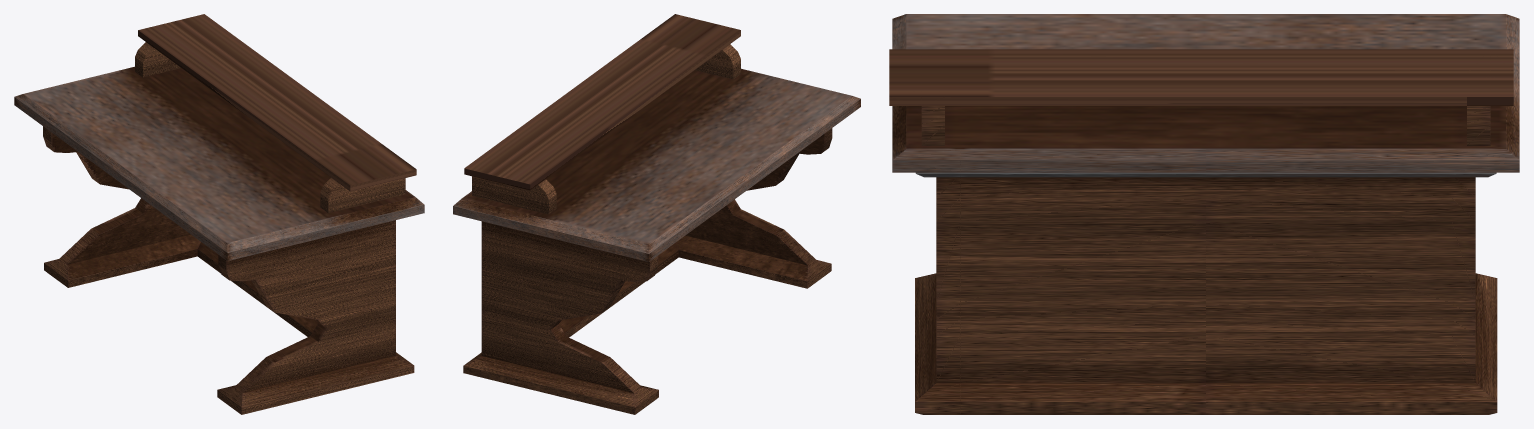
File: Desk.glb
3 views of the same model, side by side, from view 1: azimuth 30°, elevation 25°; view 2: azimuth 150°, elevation 25°; view 3: azimuth 270°, elevation 25° (orthographic). The views are drawn at different scales.
Visible parts, largest first — view 1: Desk; view 2: Desk; view 3: Desk.
Part boxes in pixels (left/top/right/bottom): Desk: left=14, top=14, right=424, bottom=414; Desk: left=453, top=14, right=860, bottom=414; Desk: left=889, top=14, right=1519, bottom=414.
Size of the model in its own units: 2 by 2.08 by 3.77.
Materials: 6 (6 with a texture image).
